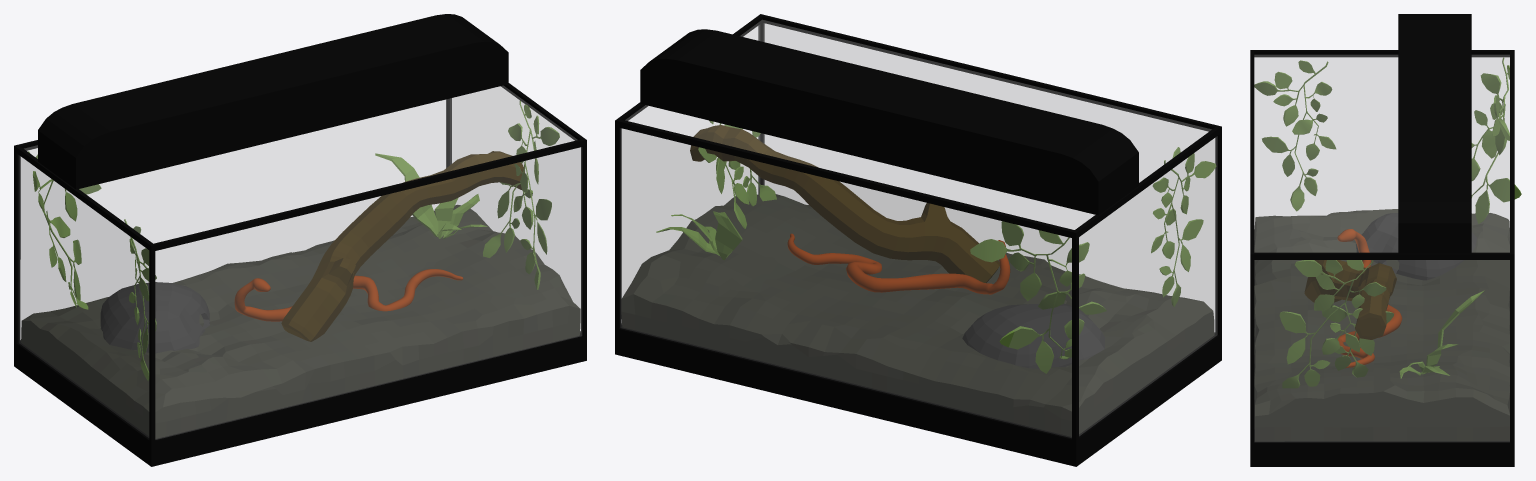
The model's file is sp-snake.glb.
3 renders of one model, left to right at view 1: azimuth 30°, elevation 25°; view 2: azimuth 150°, elevation 25°; view 3: azimuth 270°, elevation 25°, orthographic. The views are drawn at different scales.
Visible parts, largest first — view 1: Glass_11, Substrate_2, Hood_4, Tank_0, Branch_5, Hide_3, Vine.002_9, SNek_10, Vine.001_8, Plant_6, Vine_7; view 2: Glass_11, Substrate_2, Hood_4, Tank_0, Branch_5, Hide_3, Vine.001_8, SNek_10, Vine_7, Vine.002_9, Plant_6; view 3: Glass_11, Substrate_2, Hood_4, Tank_0, Vine.002_9, Vine_7, Branch_5, Vine.001_8, Hide_3, SNek_10, Plant_6.
Part boxes in pixels (bbox=[...]): Glass_11: bbox=[19, 86, 581, 439]; Substrate_2: bbox=[21, 204, 580, 438]; Hood_4: bbox=[38, 14, 508, 189]; Tank_0: bbox=[14, 83, 586, 466]; Branch_5: bbox=[281, 151, 524, 341]; Hide_3: bbox=[100, 282, 209, 353]; Vine.002_9: bbox=[483, 100, 559, 289]; SNek_10: bbox=[234, 269, 463, 321]; Vine.001_8: bbox=[28, 151, 101, 309]; Plant_6: bbox=[375, 153, 487, 239]; Vine_7: bbox=[124, 219, 156, 380]; Glass_11: bbox=[620, 20, 1217, 437]; Substrate_2: bbox=[621, 194, 1214, 436]; Hood_4: bbox=[640, 29, 1138, 215]; Tank_0: bbox=[615, 14, 1221, 466]; Branch_5: bbox=[690, 125, 999, 282]; Hide_3: bbox=[962, 303, 1104, 368]; Vine.001_8: bbox=[970, 221, 1106, 373]; SNek_10: bbox=[787, 233, 1010, 294]; Vine_7: bbox=[1151, 147, 1216, 306]; Vine.002_9: bbox=[698, 120, 776, 228]; Plant_6: bbox=[656, 211, 742, 260]; Glass_11: bbox=[1254, 55, 1509, 441]; Substrate_2: bbox=[1254, 209, 1509, 441]; Hood_4: bbox=[1398, 14, 1471, 253]; Tank_0: bbox=[1250, 50, 1514, 466]; Vine.002_9: bbox=[1279, 260, 1393, 388]; Vine_7: bbox=[1254, 60, 1336, 211]; Branch_5: bbox=[1304, 260, 1396, 339]; Vine.001_8: bbox=[1471, 57, 1521, 223]; Hide_3: bbox=[1356, 213, 1477, 280]; SNek_10: bbox=[1337, 229, 1402, 368]; Plant_6: bbox=[1399, 290, 1484, 378].
Size of the model in its own units: 8.19 by 4.85 by 4.59.
